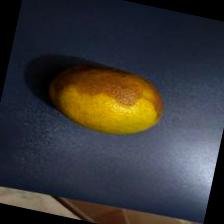Orange Rotten: (34, 48, 184, 150)
